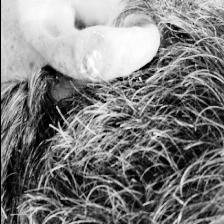Potentially Malignant Skin Tumors: (77, 36, 111, 82)
